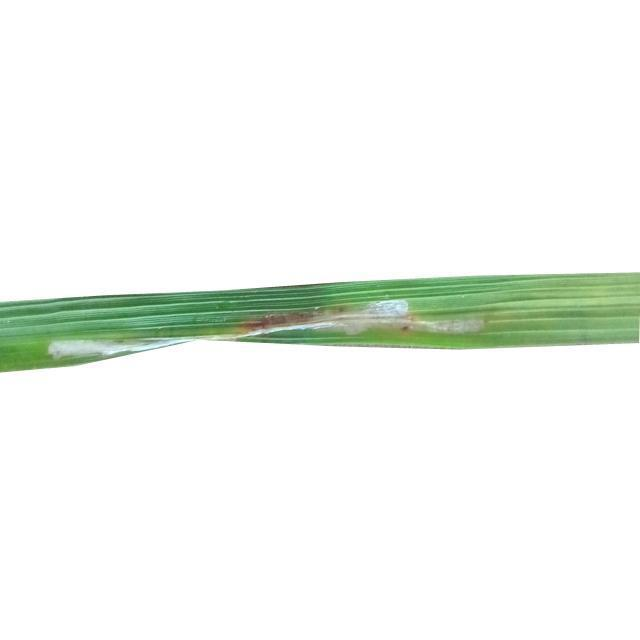Bacterial_Leaf_Blight: (308, 296, 411, 340), (203, 313, 326, 338), (48, 333, 129, 359), (399, 315, 488, 335)
